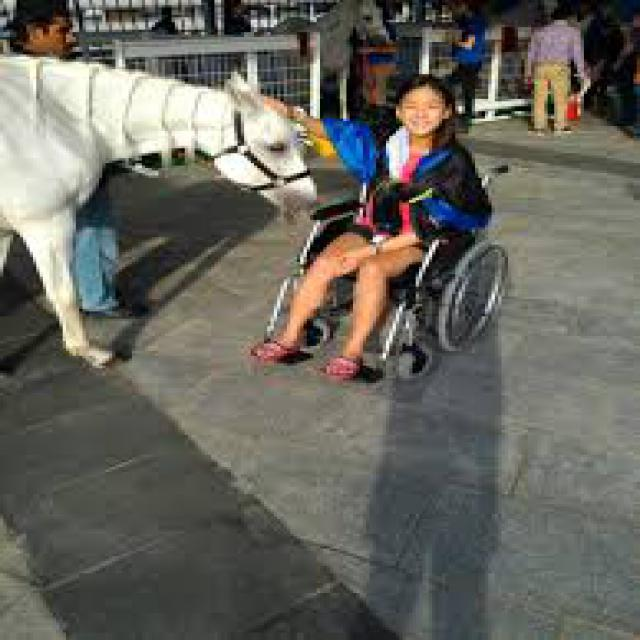wheelchairs: (250, 158, 504, 378)
